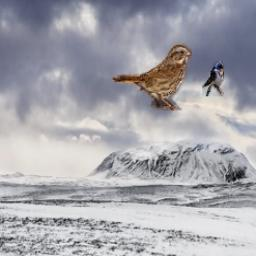Sparrow: (111, 43, 192, 112)
Swallow: (203, 61, 225, 96)
